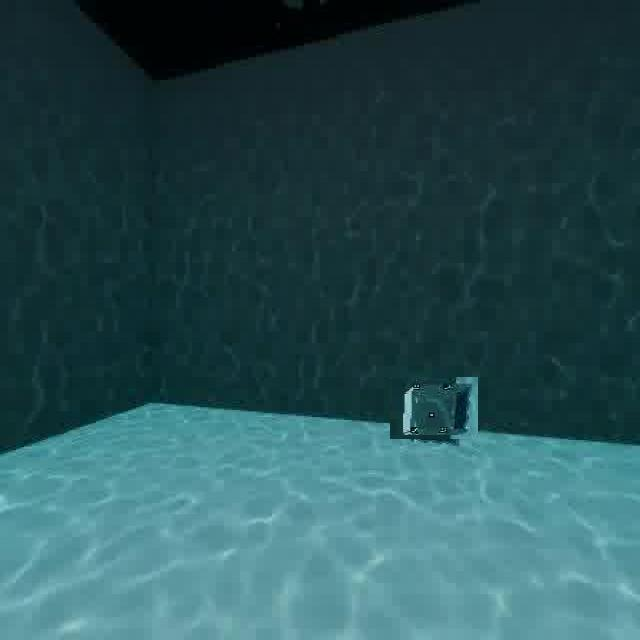Docking Station: (397, 370, 472, 446)
